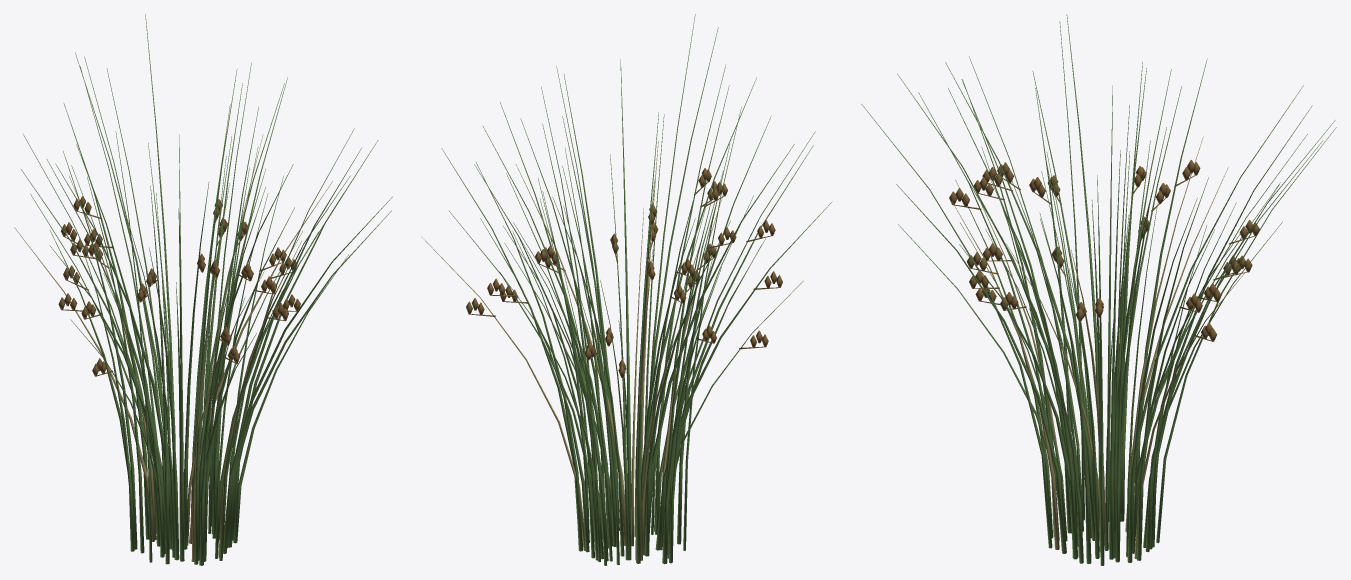
Rendered from Woodland_Rush_Clump_01_LOD0.fbx.
3 views of the same model, side by side, from view 1: azimuth 30°, elevation 25°; view 2: azimuth 150°, elevation 25°; view 3: azimuth 270°, elevation 25° (orthographic). The views are drawn at different scales.
Visible parts, largest first — view 1: Woodland_Rush_Clump_01_LOD0_Foliage; view 2: Woodland_Rush_Clump_01_LOD0_Foliage; view 3: Woodland_Rush_Clump_01_LOD0_Foliage.
Boxes of the visible parts, x1,y1,x2,y2 form: Woodland_Rush_Clump_01_LOD0_Foliage: (14,14,392,565); Woodland_Rush_Clump_01_LOD0_Foliage: (421,14,832,565); Woodland_Rush_Clump_01_LOD0_Foliage: (861,14,1336,565).
Size of the model in its own units: 64.34 by 84.01 by 75.63.
